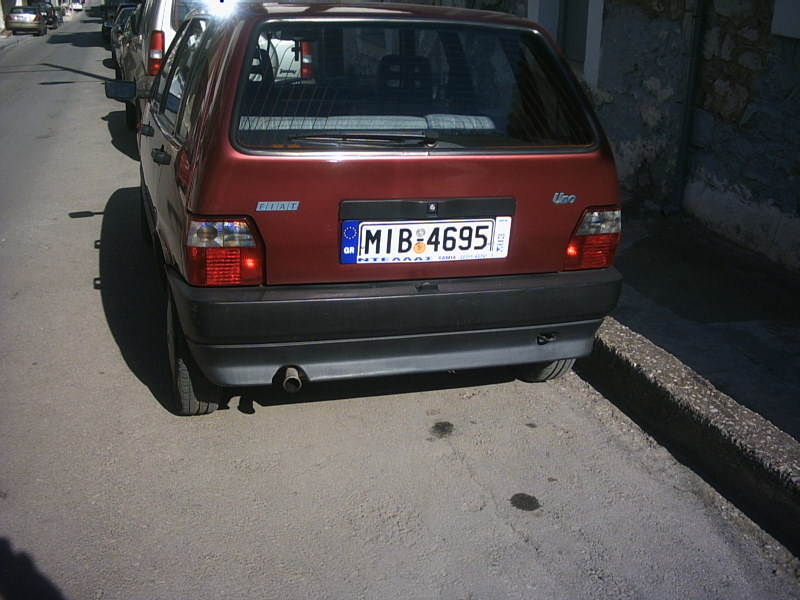licenseplate: (339, 220, 495, 258)
